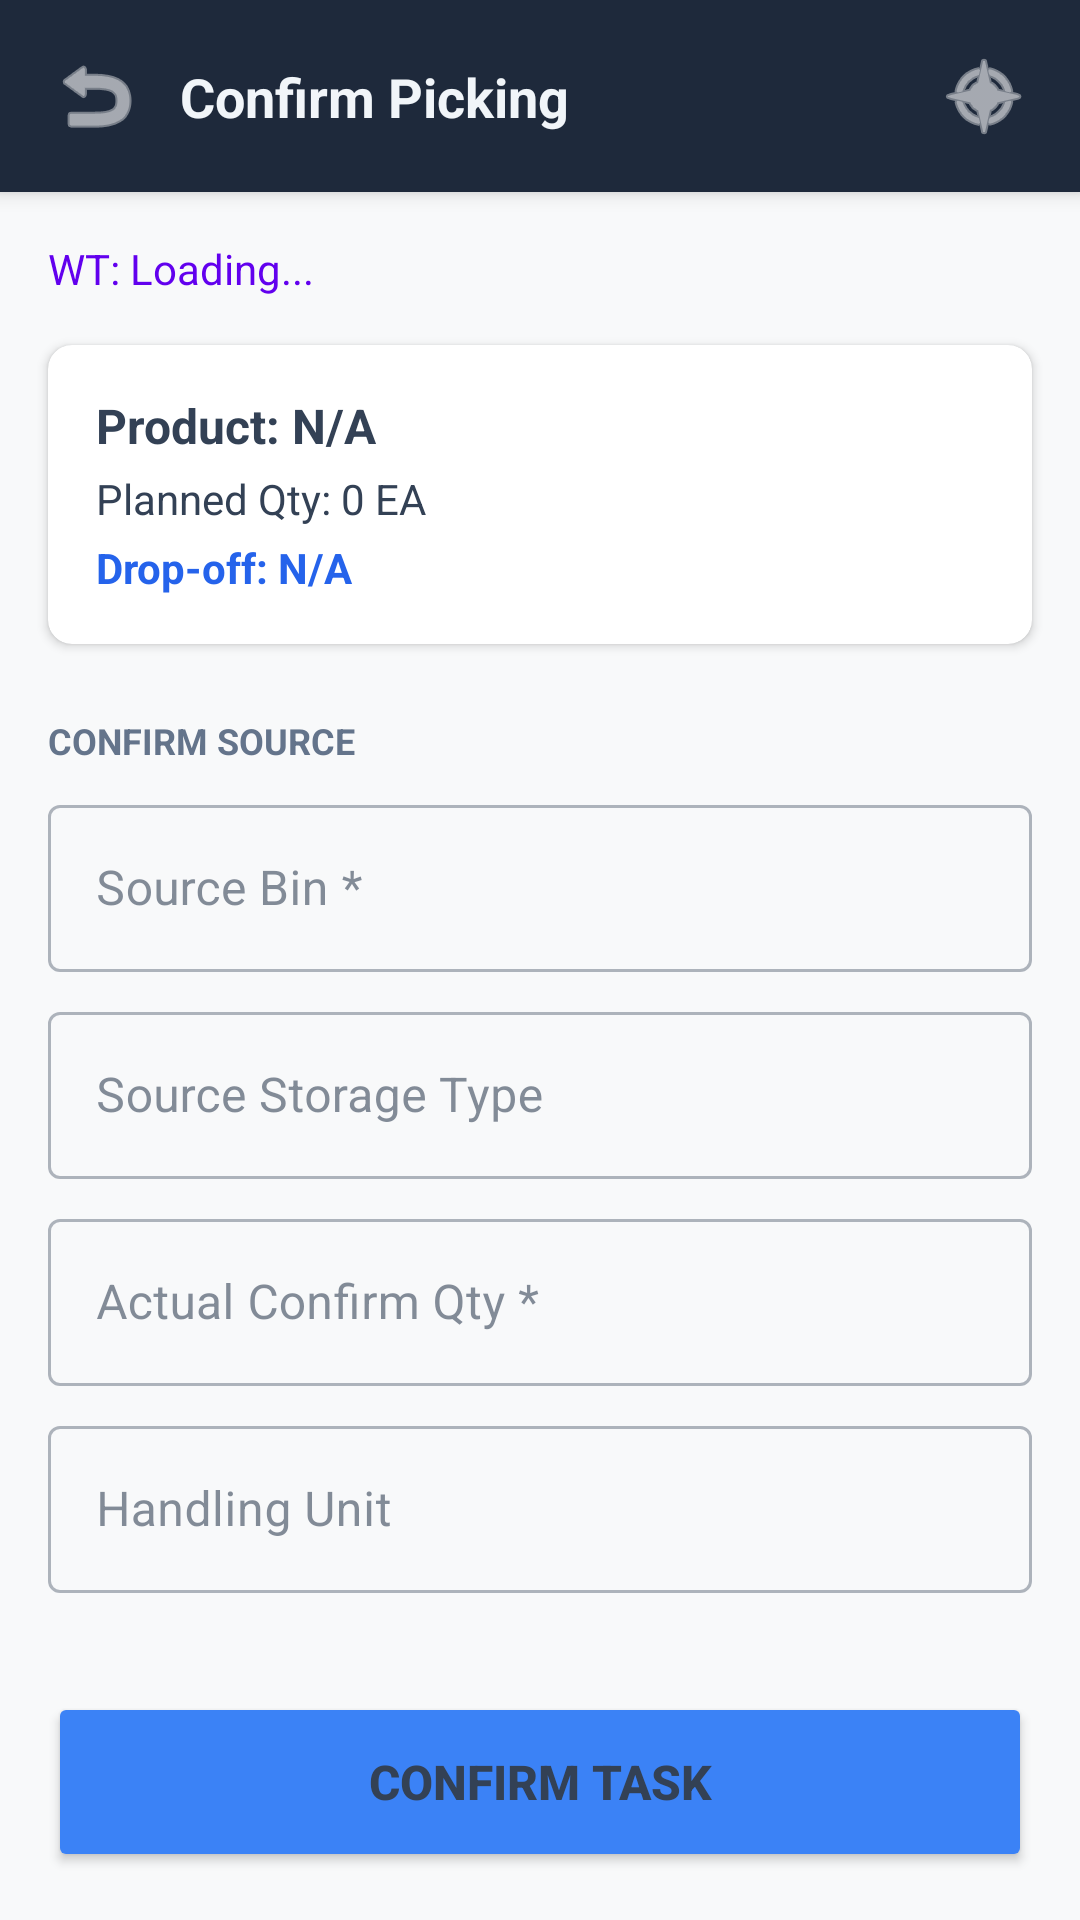

Named icons in this screenshot (1080w x 1920h) and their centers, (x=x, y=y):
compass: (x=984, y=96)
revert: (x=97, y=96)
